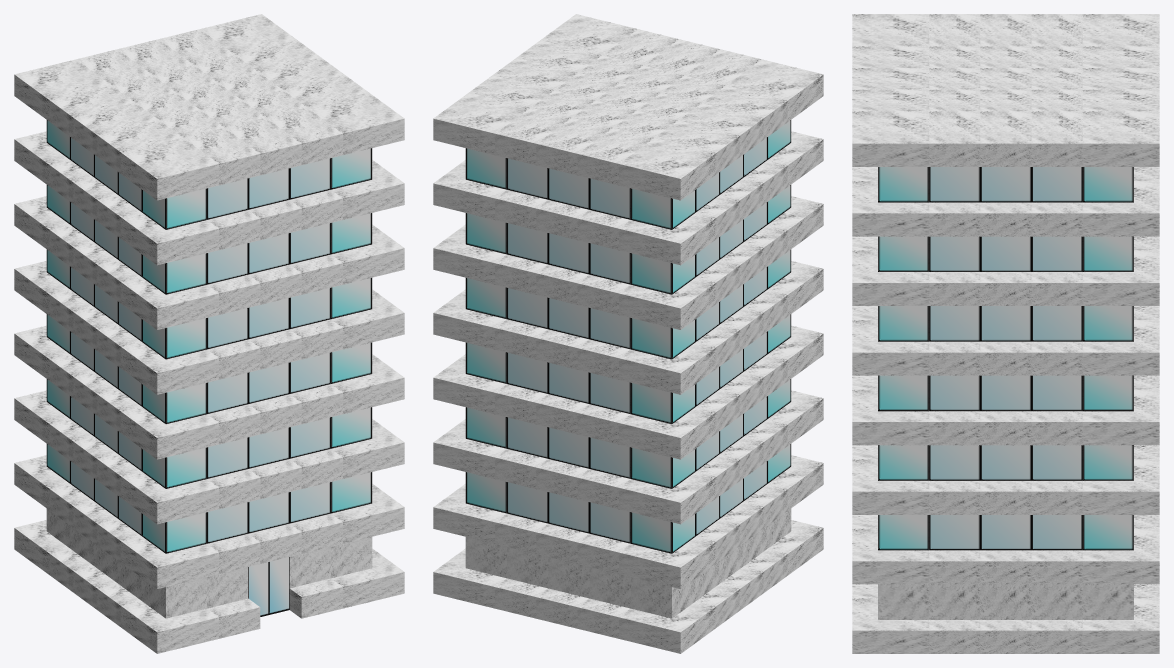
File: Concrete building_003.fbx
3 views of the same model, side by side, from view 1: azimuth 30°, elevation 25°; view 2: azimuth 150°, elevation 25°; view 3: azimuth 270°, elevation 25° (orthographic). The views are drawn at different scales.
Visible parts, largest first — view 1: Concrete_block420, Concrete_block419, Concrete_block393, Concrete_block377, Concrete_block383, Concrete_block398, Concrete_block388, Concrete_block351, Concrete_block403, Concrete_block438, Concrete_block437, Concrete_block417 (+139 smaller); view 2: Concrete_block438, Concrete_block439, Concrete_block463, Concrete_block453, Concrete_block468, Concrete_block473, Concrete_block458, Concrete_block443, Concrete_block448, Concrete_block420, Concrete_block441, Concrete_block442 (+139 smaller); view 3: Concrete_block419, Concrete_block439, Concrete_block387, Concrete_block397, Concrete_block461, Concrete_block472, Concrete_block382, Concrete_block402, Concrete_block447, Concrete_block457, Concrete_block321, Concrete_block345 (+83 smaller).
Boxes of the visible parts, x1=… form: Concrete_block420: x1=121, y1=138, x2=218, y2=200; Concrete_block419: x1=307, y1=92, x2=404, y2=154; Concrete_block393: x1=121, y1=471, x2=218, y2=524; Concrete_block377: x1=121, y1=601, x2=218, y2=653; Concrete_block383: x1=121, y1=342, x2=218, y2=394; Concrete_block398: x1=121, y1=536, x2=218, y2=588; Concrete_block388: x1=121, y1=407, x2=218, y2=459; Concrete_block351: x1=121, y1=277, x2=218, y2=329; Concrete_block403: x1=121, y1=212, x2=218, y2=265; Concrete_block438: x1=14, y1=59, x2=111, y2=121; Concrete_block437: x1=183, y1=127, x2=260, y2=185; Concrete_block417: x1=225, y1=117, x2=301, y2=175; Concrete_block438: x1=619, y1=138, x2=716, y2=200; Concrete_block439: x1=433, y1=92, x2=530, y2=154; Concrete_block463: x1=619, y1=471, x2=716, y2=524; Concrete_block453: x1=619, y1=342, x2=716, y2=394; Concrete_block468: x1=619, y1=536, x2=716, y2=588; Concrete_block473: x1=619, y1=601, x2=716, y2=653; Concrete_block458: x1=619, y1=407, x2=716, y2=459; Concrete_block443: x1=619, y1=212, x2=716, y2=265; Concrete_block448: x1=619, y1=277, x2=716, y2=329; Concrete_block420: x1=726, y1=59, x2=823, y2=121; Concrete_block441: x1=577, y1=127, x2=654, y2=185; Concrete_block442: x1=536, y1=117, x2=612, y2=175; Concrete_block419: x1=852, y1=111, x2=929, y2=166; Concrete_block439: x1=1082, y1=111, x2=1159, y2=166; Concrete_block387: x1=852, y1=389, x2=929, y2=445; Concrete_block397: x1=852, y1=528, x2=929, y2=584; Concrete_block461: x1=1082, y1=389, x2=1159, y2=445; Concrete_block472: x1=1082, y1=528, x2=1159, y2=584; Concrete_block382: x1=852, y1=320, x2=929, y2=375; Concrete_block402: x1=852, y1=181, x2=929, y2=236; Concrete_block447: x1=1082, y1=181, x2=1159, y2=236; Concrete_block457: x1=1082, y1=320, x2=1159, y2=375; Concrete_block321: x1=852, y1=250, x2=929, y2=305; Concrete_block345: x1=852, y1=598, x2=929, y2=653.
Size of the model in its own units: 6 by 11 by 6.
